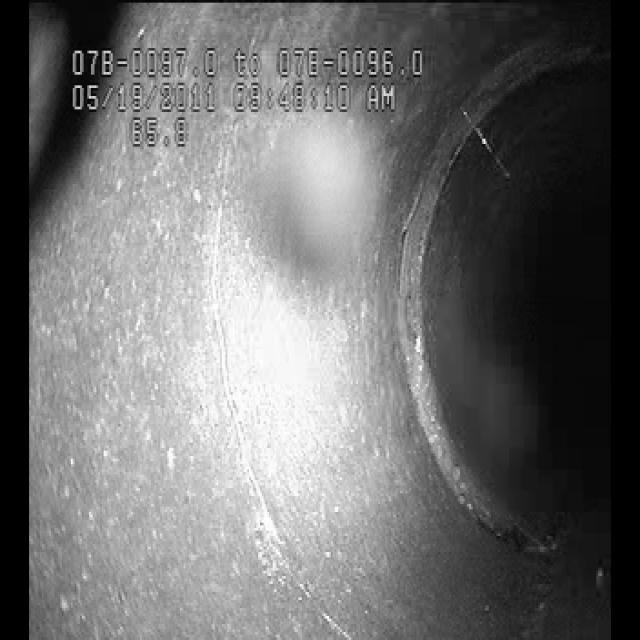Crack: (192, 176, 300, 584)
